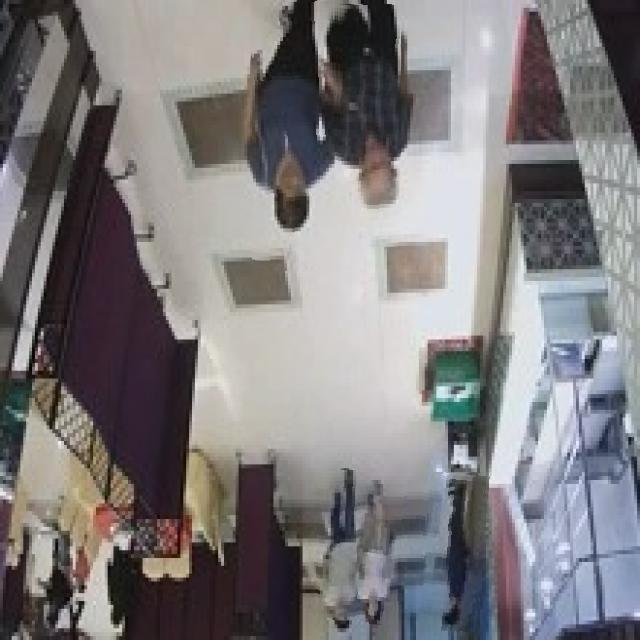normal: (252, 0, 338, 271), (333, 4, 401, 247), (423, 473, 486, 632), (357, 484, 401, 624), (317, 470, 356, 620)
